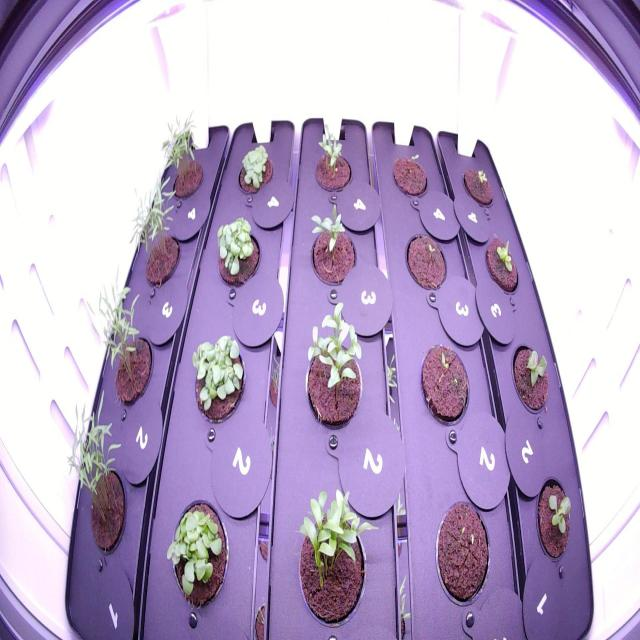germination: (290, 481, 389, 635), (64, 384, 130, 562), (295, 295, 367, 443), (94, 264, 160, 415), (429, 486, 495, 614), (127, 172, 184, 299), (306, 199, 363, 296), (416, 334, 474, 429), (155, 108, 209, 204), (304, 115, 356, 201), (398, 228, 450, 298), (386, 144, 433, 204), (458, 160, 499, 212)
young: (531, 470, 576, 570), (506, 336, 554, 422), (482, 228, 524, 300)
